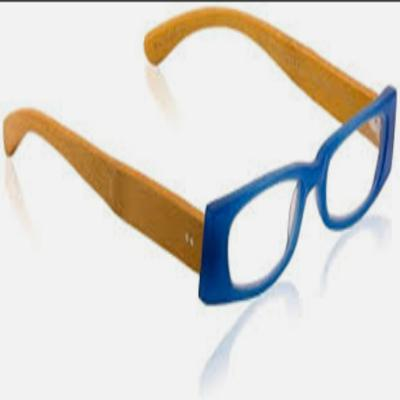glasses: (4, 5, 399, 307)
